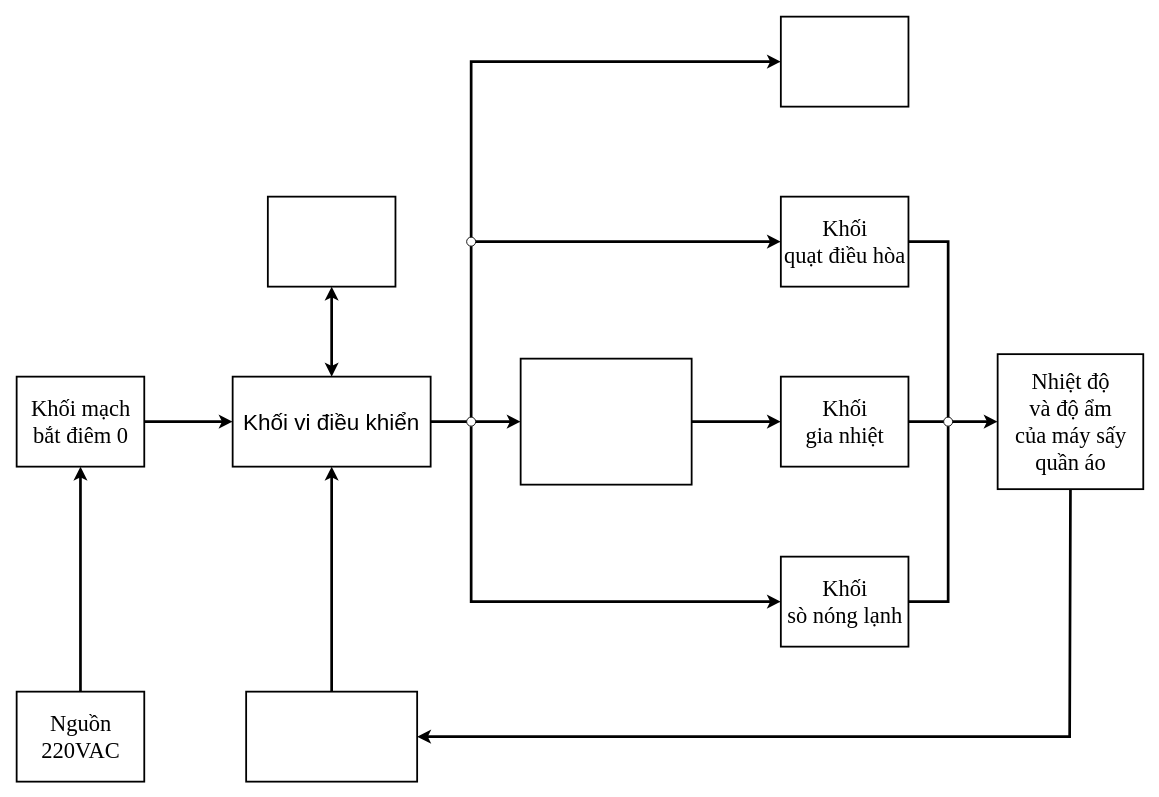
This 1159x797 diagram has some shape labels left out. Here are the shapes that lost their labels. From the top down, the centre of each, then its label:
At pixel 844 61: "Khối hiển thị LCD".
At pixel 331 241: "Khối IoT".
At pixel 605 421: "Khối mạch điều chế điện áp xoay chiều 1 pha tải R".
At pixel 331 736: "Khối cảm biến nhiệt độ và độ ẩm".
